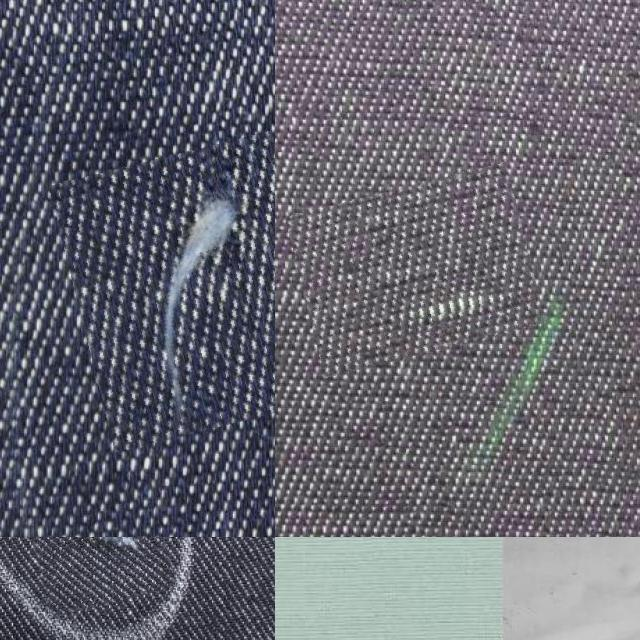stains: (63, 142, 275, 440), (294, 175, 538, 365), (27, 537, 171, 612)
